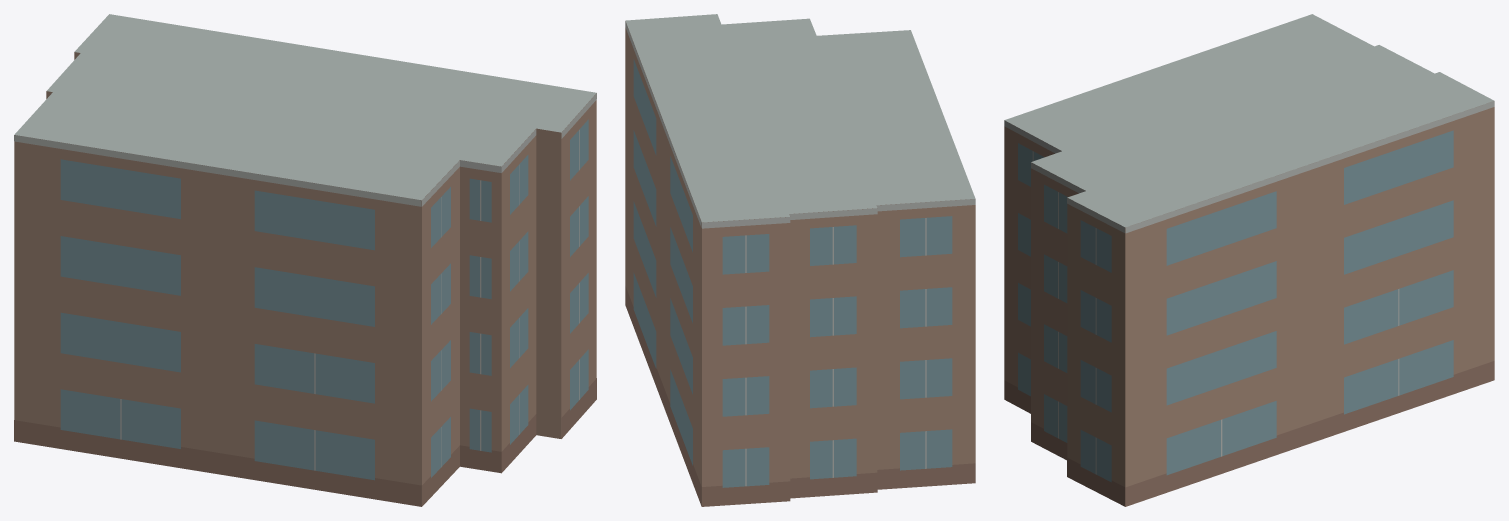
Rendered from survey-upis-32926218.glb.
The picture shows the model from 3 angles, left to right: view 1: azimuth 30°, elevation 25°; view 2: azimuth 150°, elevation 25°; view 3: azimuth 270°, elevation 25°; orthographic projection. The views are drawn at different scales.
Visible parts, largest first — view 1: survey-upis-32926218.tmp; view 2: survey-upis-32926218.tmp; view 3: survey-upis-32926218.tmp.
Part boxes in pixels (<box>): survey-upis-32926218.tmp: <box>14,14,596,506</box>; survey-upis-32926218.tmp: <box>625,14,975,506</box>; survey-upis-32926218.tmp: <box>1004,14,1494,506</box>.
Bounding box in the file's own units: 18.53 × 11.3 × 17.98.
